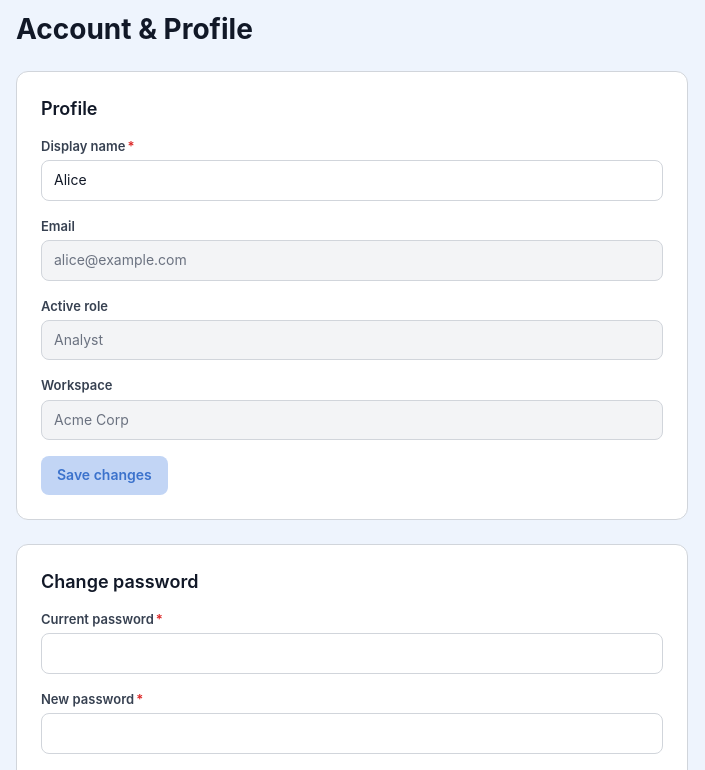
AccountPage profile section › shows error message when updateMe fails
Replace the text in the field showing "Alice" with "Alice B." at x=352, y=180, box [41,160,663,201]
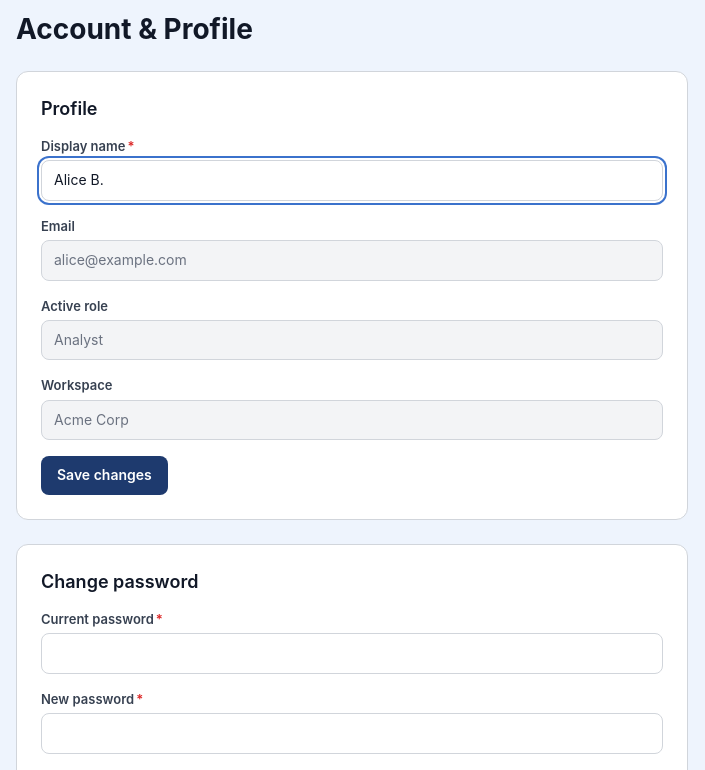
Click the button "Save changes" at x=104, y=476, box [41,456,168,495]
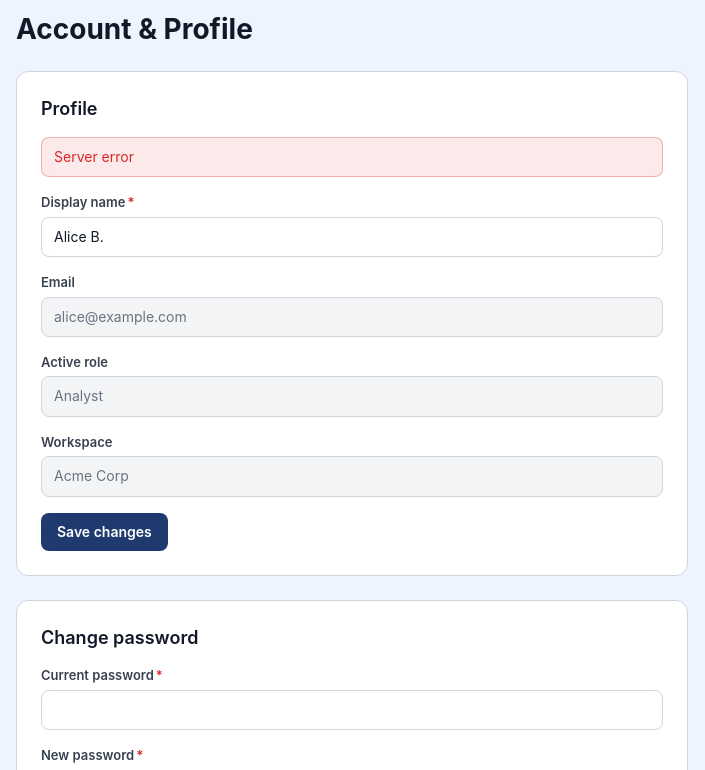
Expected: the message reads "Server error", [54,148,134,165]
